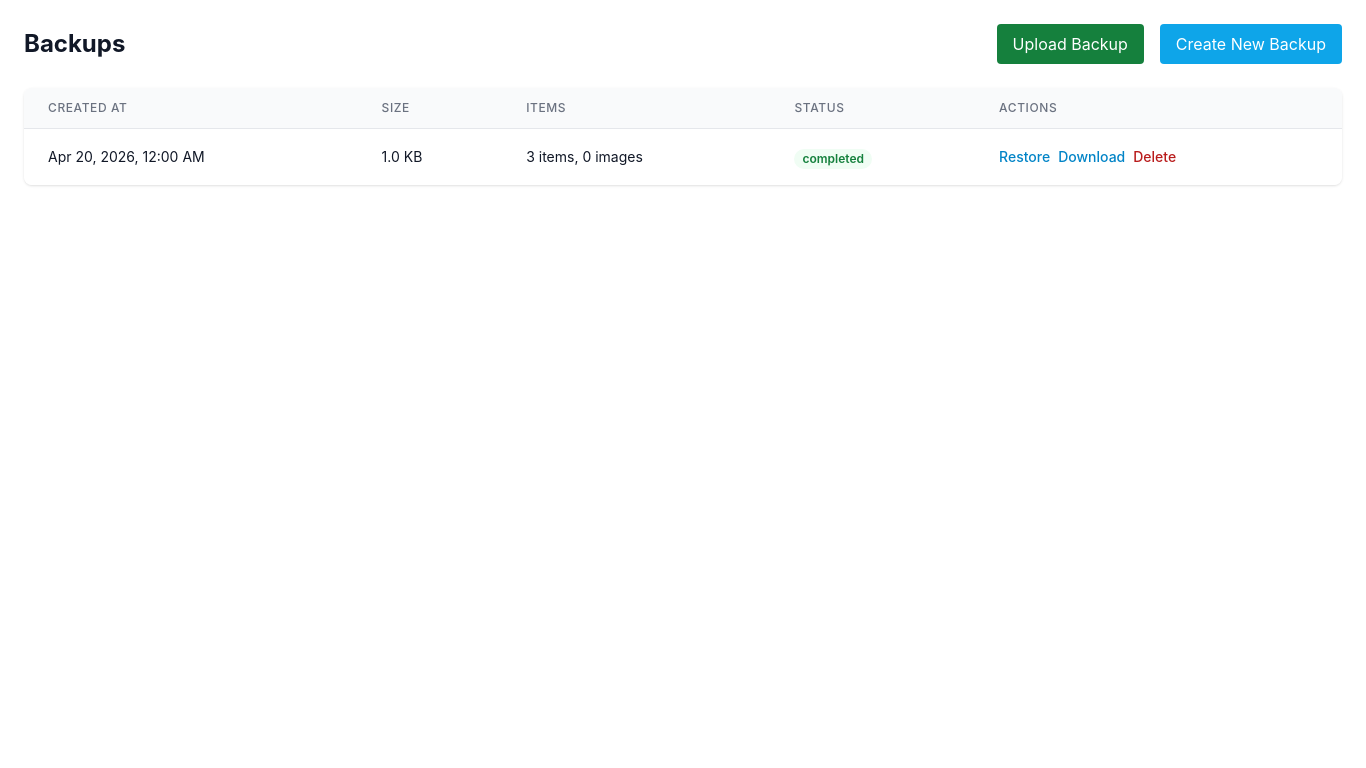
Test: Backups two-phase restore › shows the preview dialog after clicking Restore
Step 1. Click the button "Restore" → (1025, 157), box left=999, top=147, right=1050, bottom=167
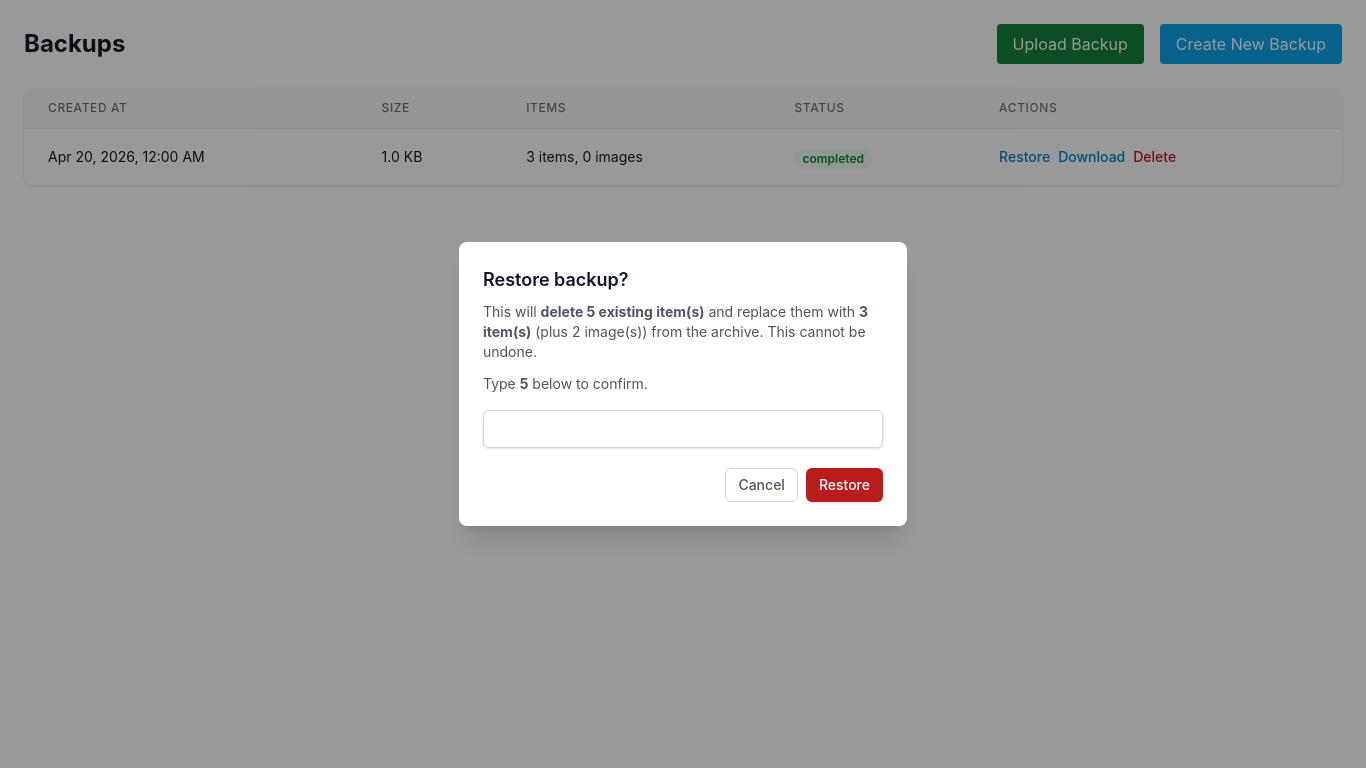
Now the dialog is shown
Now the text "delete 5 existing item(s)" is shown, box left=541, top=303, right=704, bottom=320
Now the text "3 item(s)" is shown, box left=483, top=303, right=868, bottom=340
